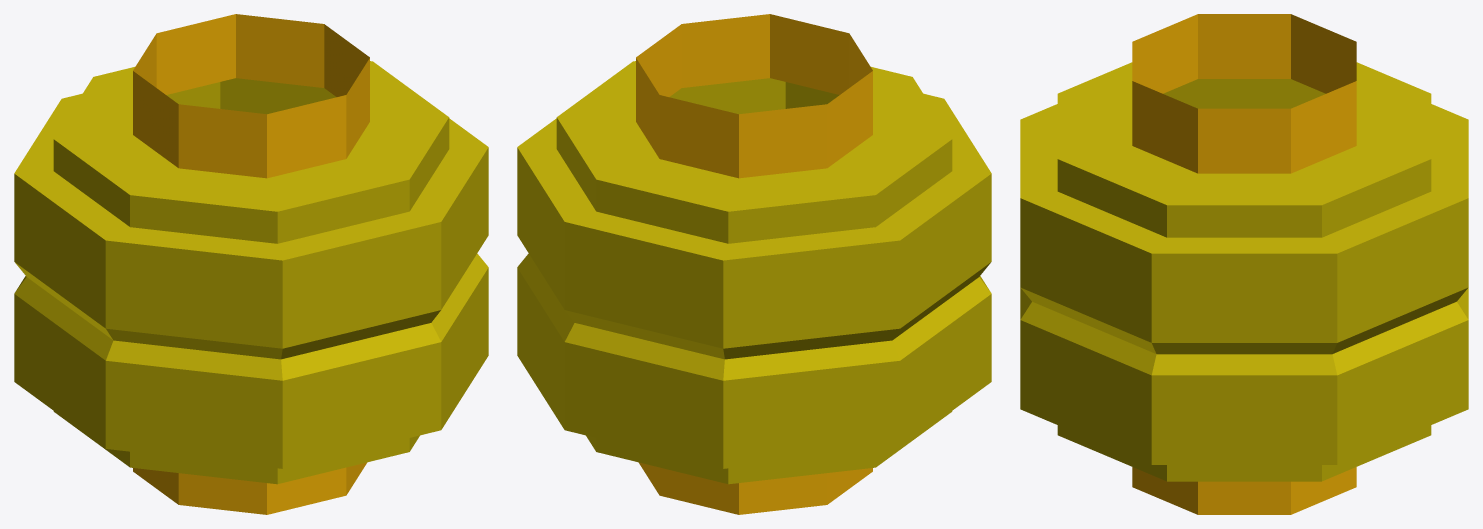
Rendered from mpe_clutch.dae.
3 views of the same model, side by side, from view 1: azimuth 30°, elevation 25°; view 2: azimuth 150°, elevation 25°; view 3: azimuth 270°, elevation 25° (orthographic).
Visible parts, largest first — view 1: clutch; view 2: clutch; view 3: clutch.
Boxes of the visible parts, bbox=[...] form: clutch: bbox=[14, 14, 488, 514]; clutch: bbox=[517, 14, 991, 514]; clutch: bbox=[1020, 14, 1468, 514].
Bounding box in the file's own units: 0.25 × 0.25 × 0.25.
